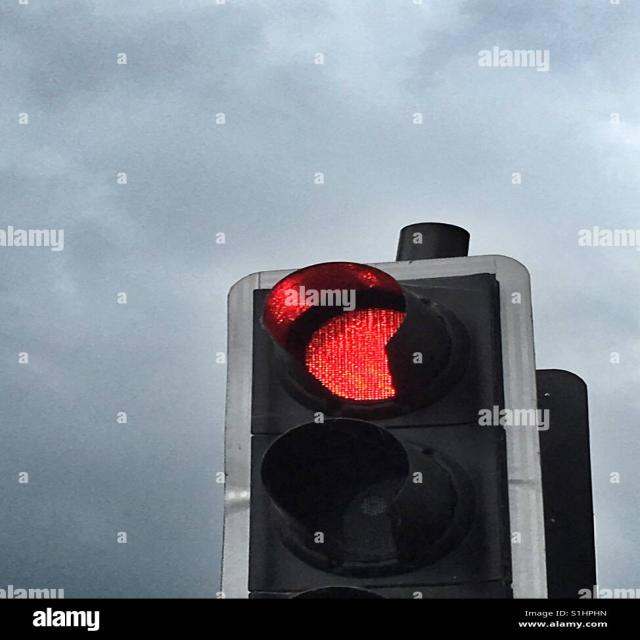red: (275, 289, 477, 412)
